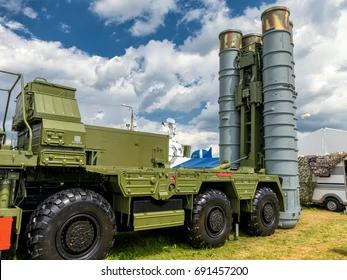MIL_SAM_TEL: (0, 5, 303, 260)
